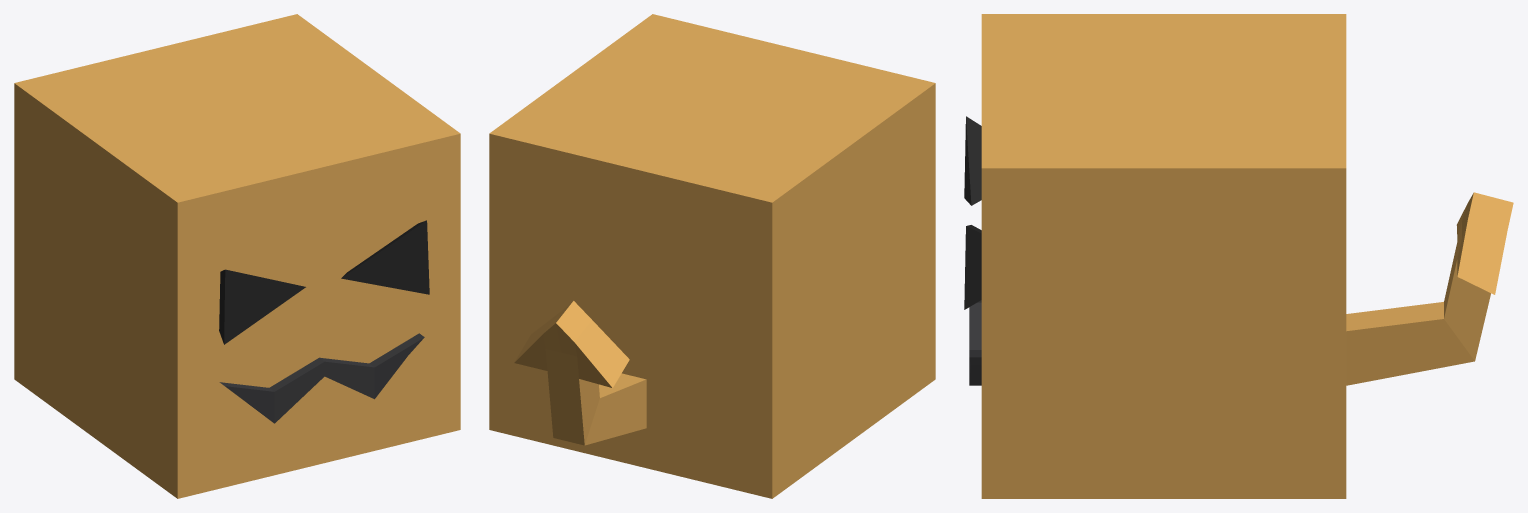
Rendered from Enemy.fbx.
The picture shows the model from 3 angles, left to right: view 1: azimuth 30°, elevation 25°; view 2: azimuth 150°, elevation 25°; view 3: azimuth 270°, elevation 25°; orthographic projection. The views are drawn at different scales.
Parts seen in each view (by area): view 1: Cube, Cone, Cube.001; view 2: Cube; view 3: Cube, Cone, Cube.001.
Part boxes in pixels (x1,y1,x2,y2): Cube: (14,14,460,498); Cone: (219,220,429,344); Cube.001: (219,333,424,423); Cube: (489,14,935,498); Cube: (981,14,1513,498); Cone: (964,116,981,309); Cube.001: (969,300,981,385).
Bounding box in the file's own units: 169 × 169 × 254.
